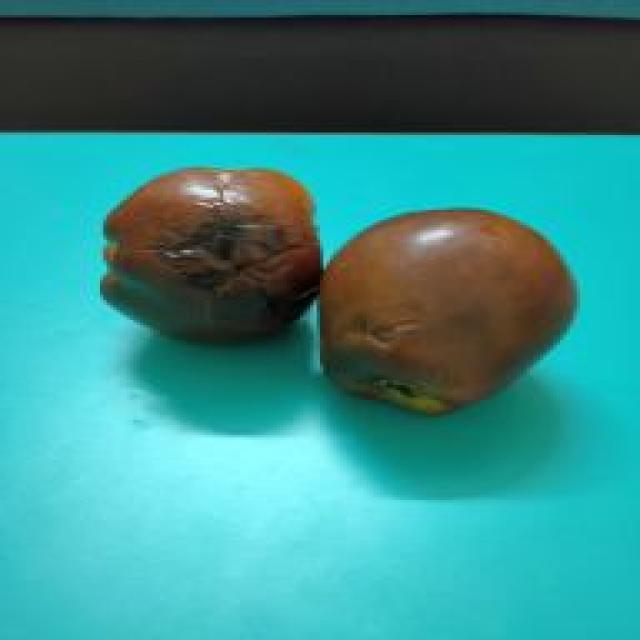Bad_Apple: (105, 170, 318, 341)
